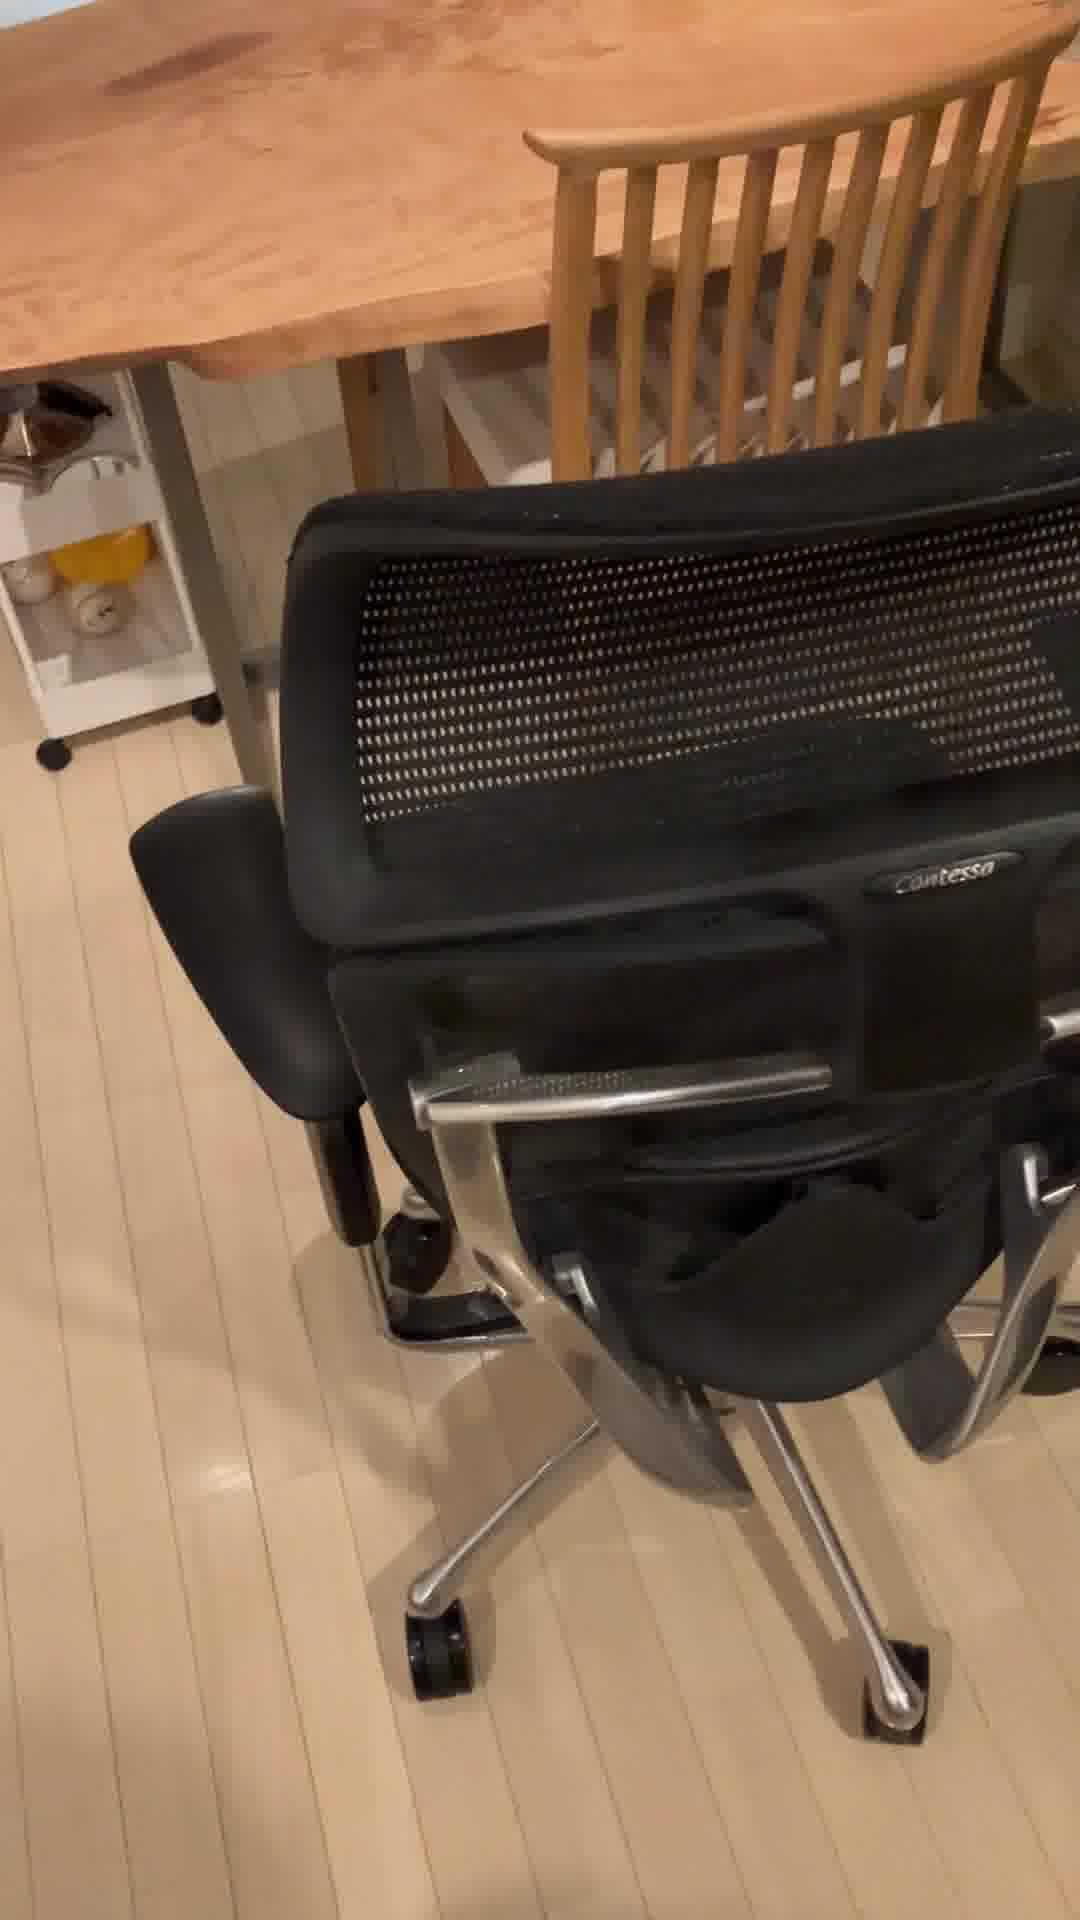okamura-contessa: (120, 396, 1080, 1747)
